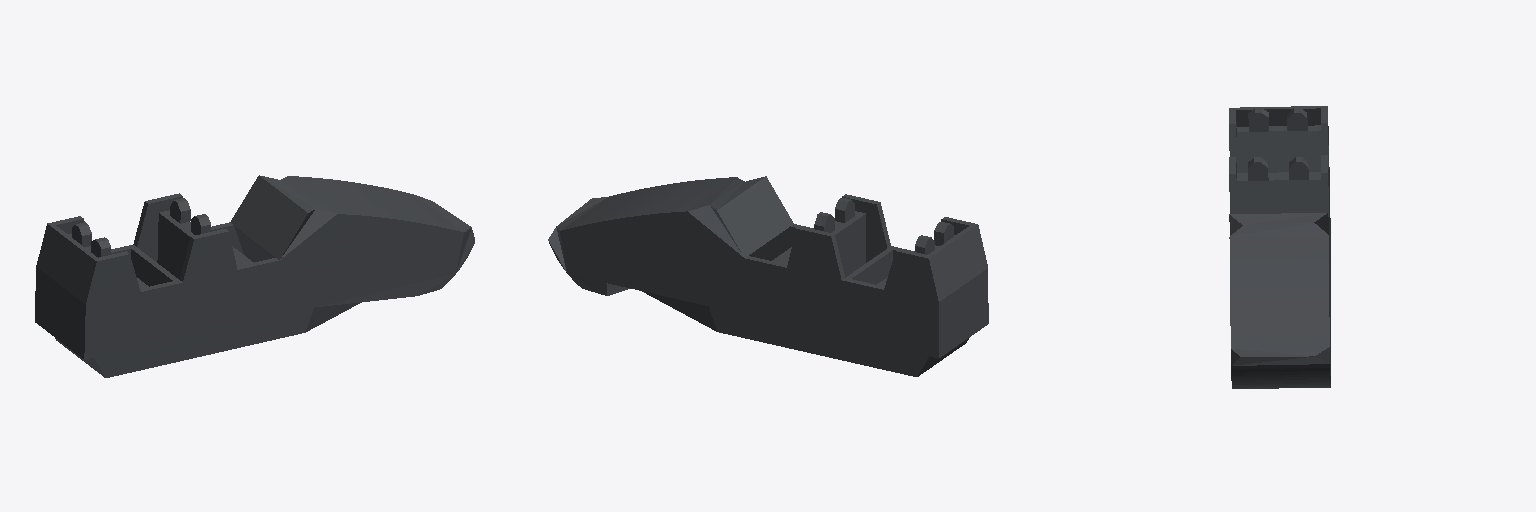
The model's file is cart.obj.
3 renders of one model, left to right at view 1: azimuth 30°, elevation 25°; view 2: azimuth 150°, elevation 25°; view 3: azimuth 270°, elevation 25°, orthographic.
Visible parts, largest first — view 1: Mesh.011_Mesh13_Model; view 2: Mesh.011_Mesh13_Model; view 3: Mesh.011_Mesh13_Model.
Boxes of the visible parts, x1=… form: Mesh.011_Mesh13_Model: x1=35, y1=175, x2=474, y2=377; Mesh.011_Mesh13_Model: x1=548, y1=176, x2=988, y2=376; Mesh.011_Mesh13_Model: x1=1229, y1=106, x2=1330, y2=388.
Bounding box in the file's own units: 5.58 × 1.78 × 1.26.